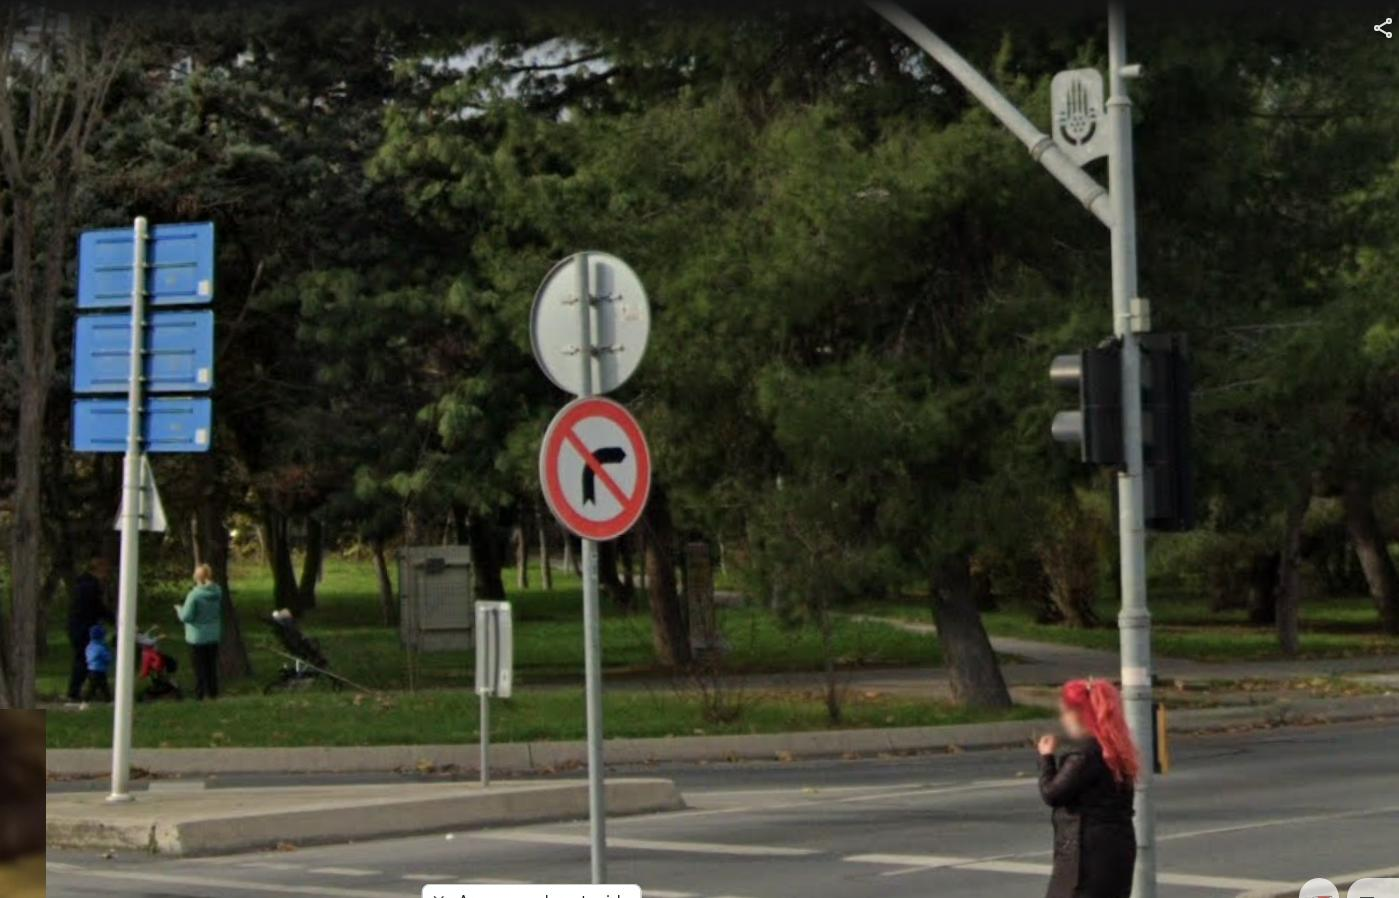rightturnsareforbidden: (543, 403, 640, 535)
